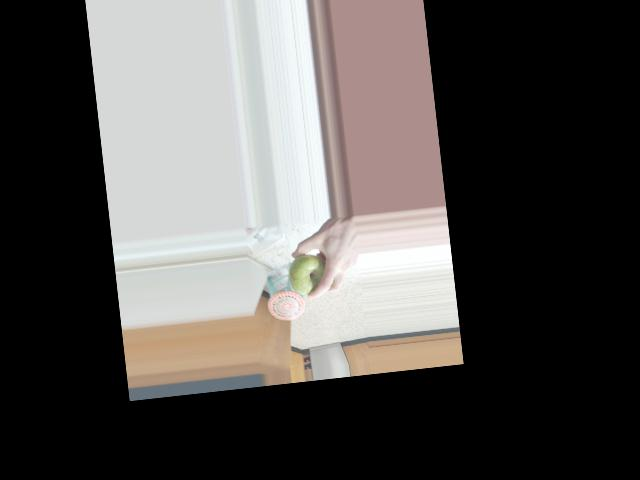apple: (285, 249, 333, 299)
